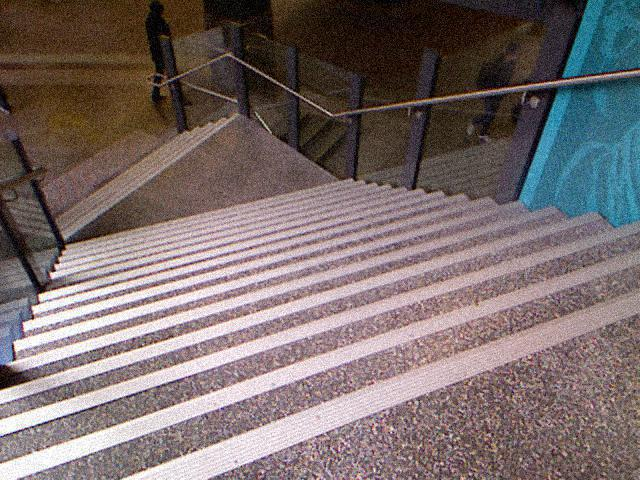Escaleras: (0, 169, 626, 479), (16, 101, 235, 241)
